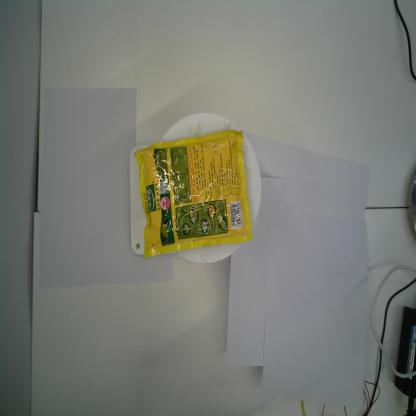Seasoner: (133, 130, 253, 258)
